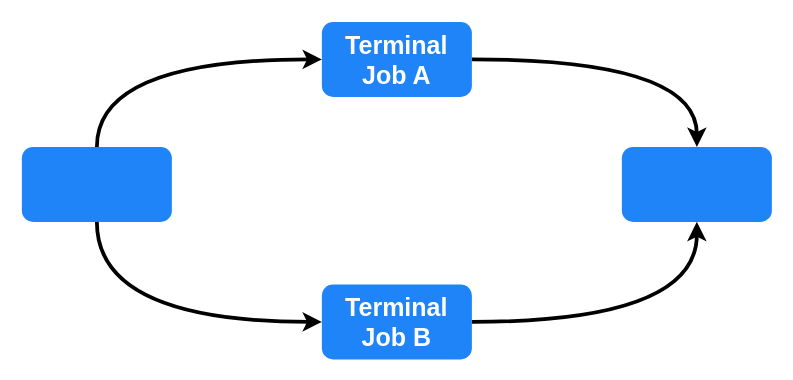
The diagram is 793 pixels wide and 380 high, and some of its shapes have lost their labels. Here are the shapes that lost their labels. From the top down, the box of each, then its label:
(21, 146, 171, 221): Job 1
(621, 146, 771, 221): slack-notifiction
